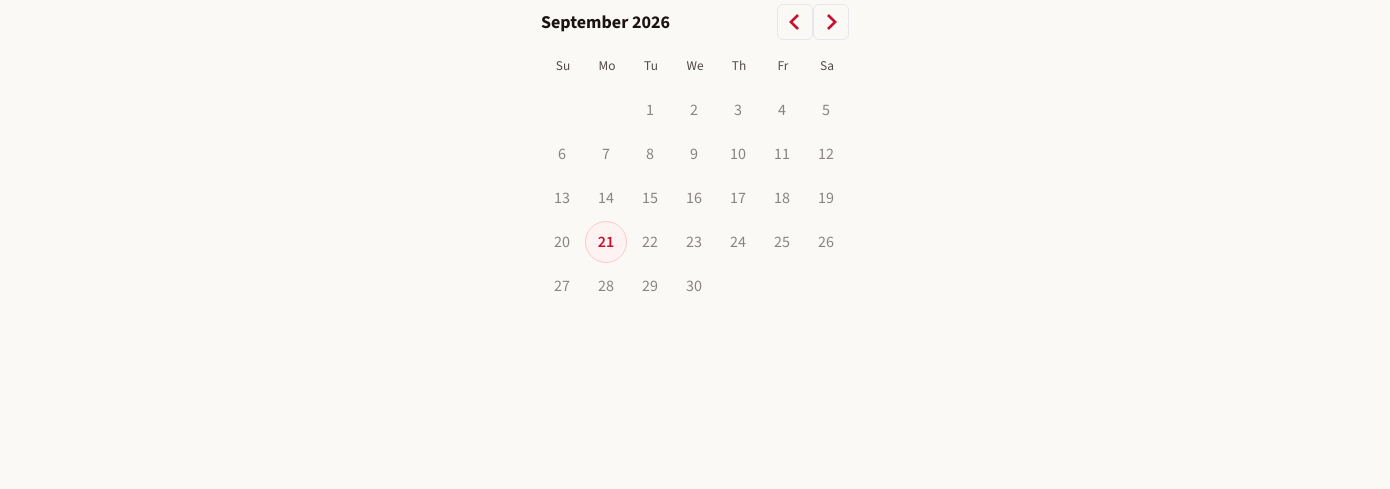
Test case: BookingCalendar › shows a disabled confirm button as soon as a multi-time day is picked
Click the button named "September 21st, 2026" at (606, 242), box left=585, top=221, right=627, bottom=263
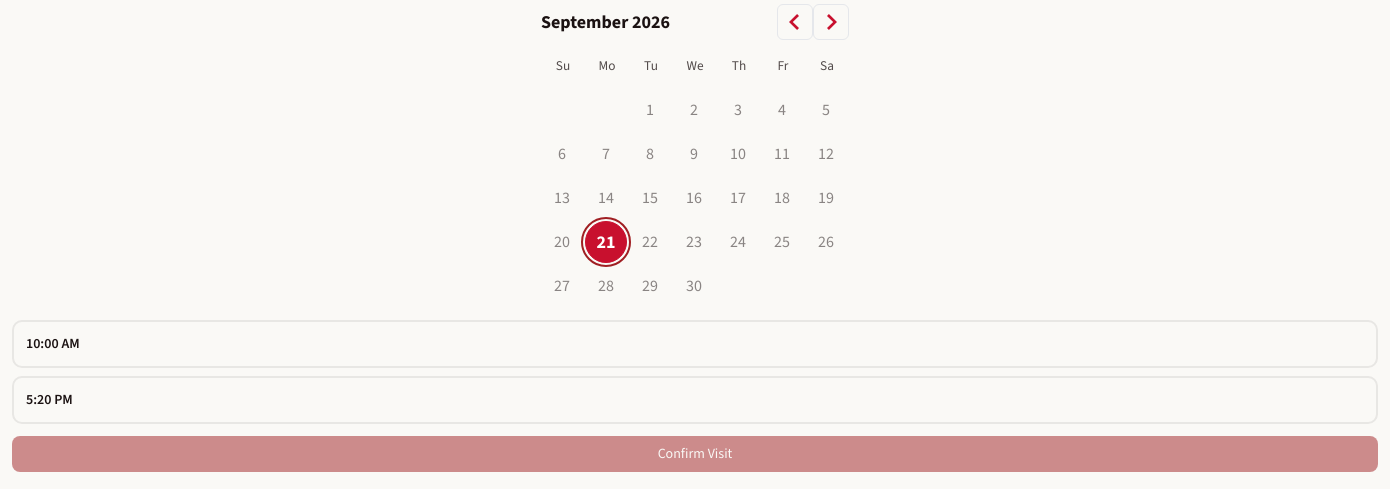
Expected: the button "Confirm Visit" is disabled, left=12, top=436, right=1378, bottom=472
